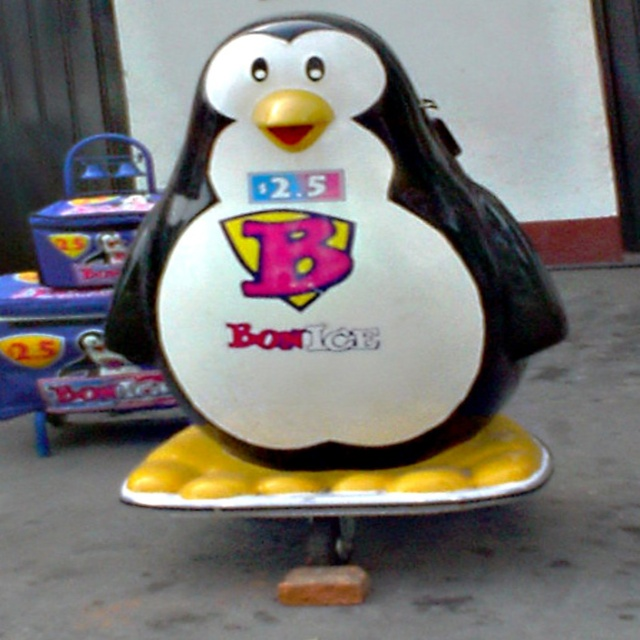Penguin: (90, 2, 567, 523)
